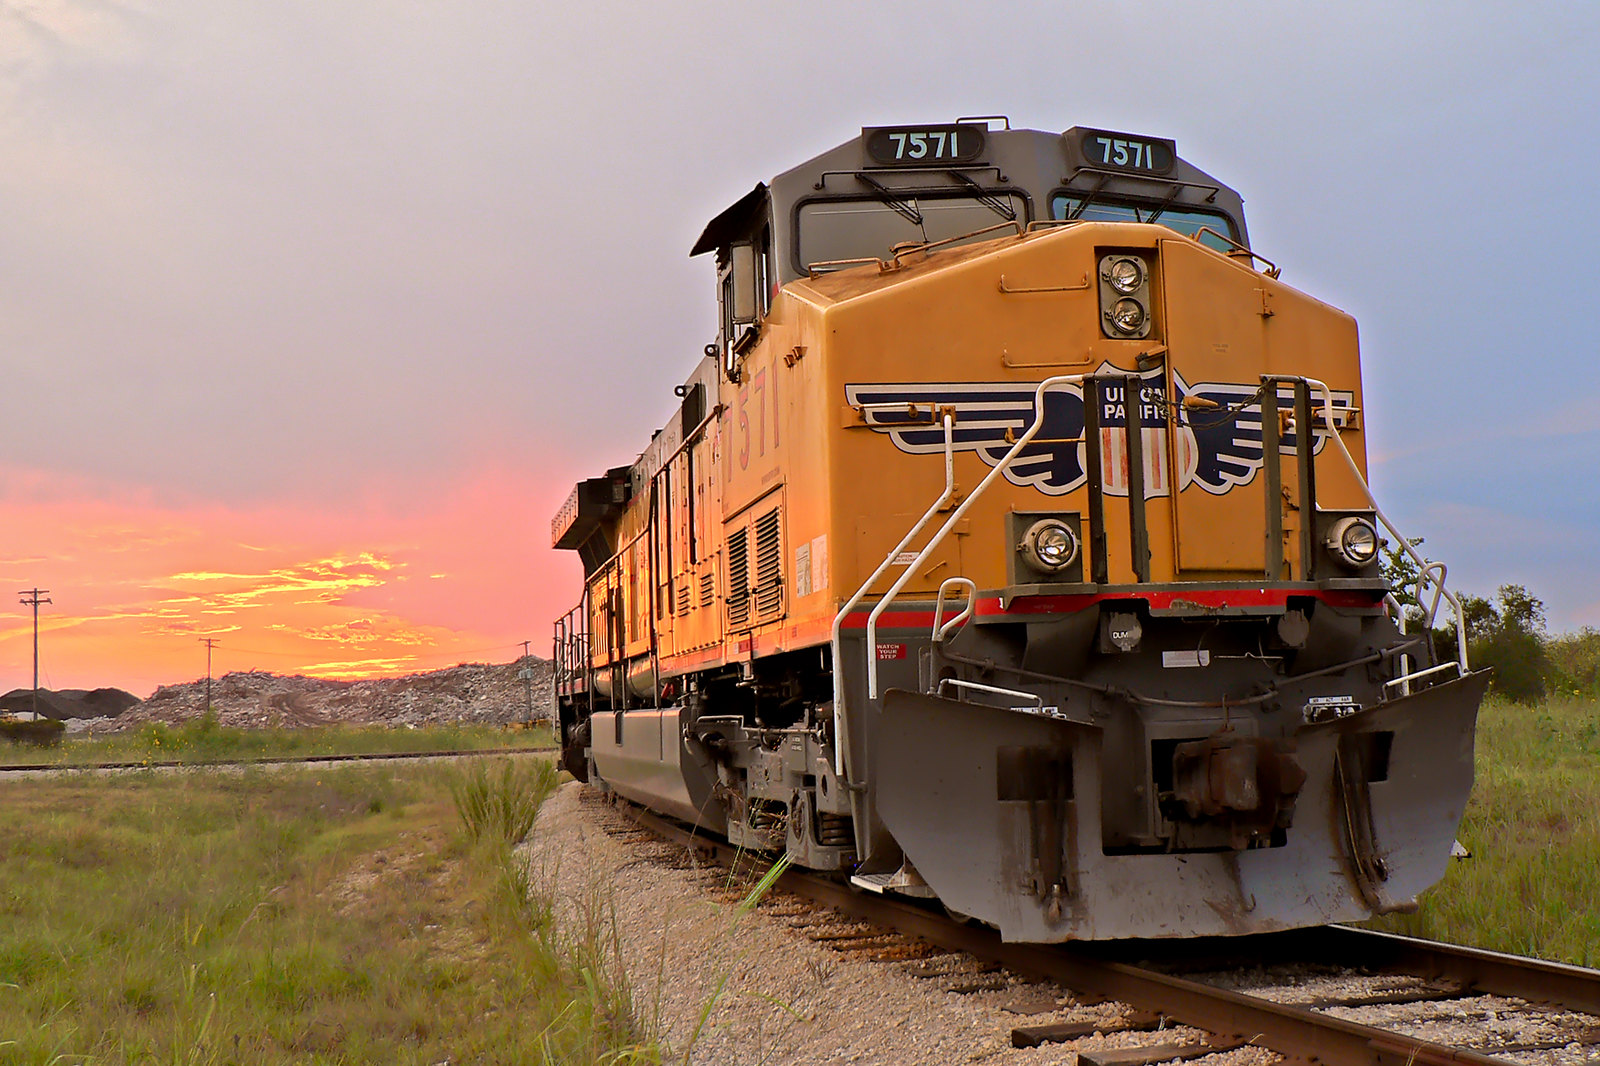train: (542, 88, 1520, 943)
